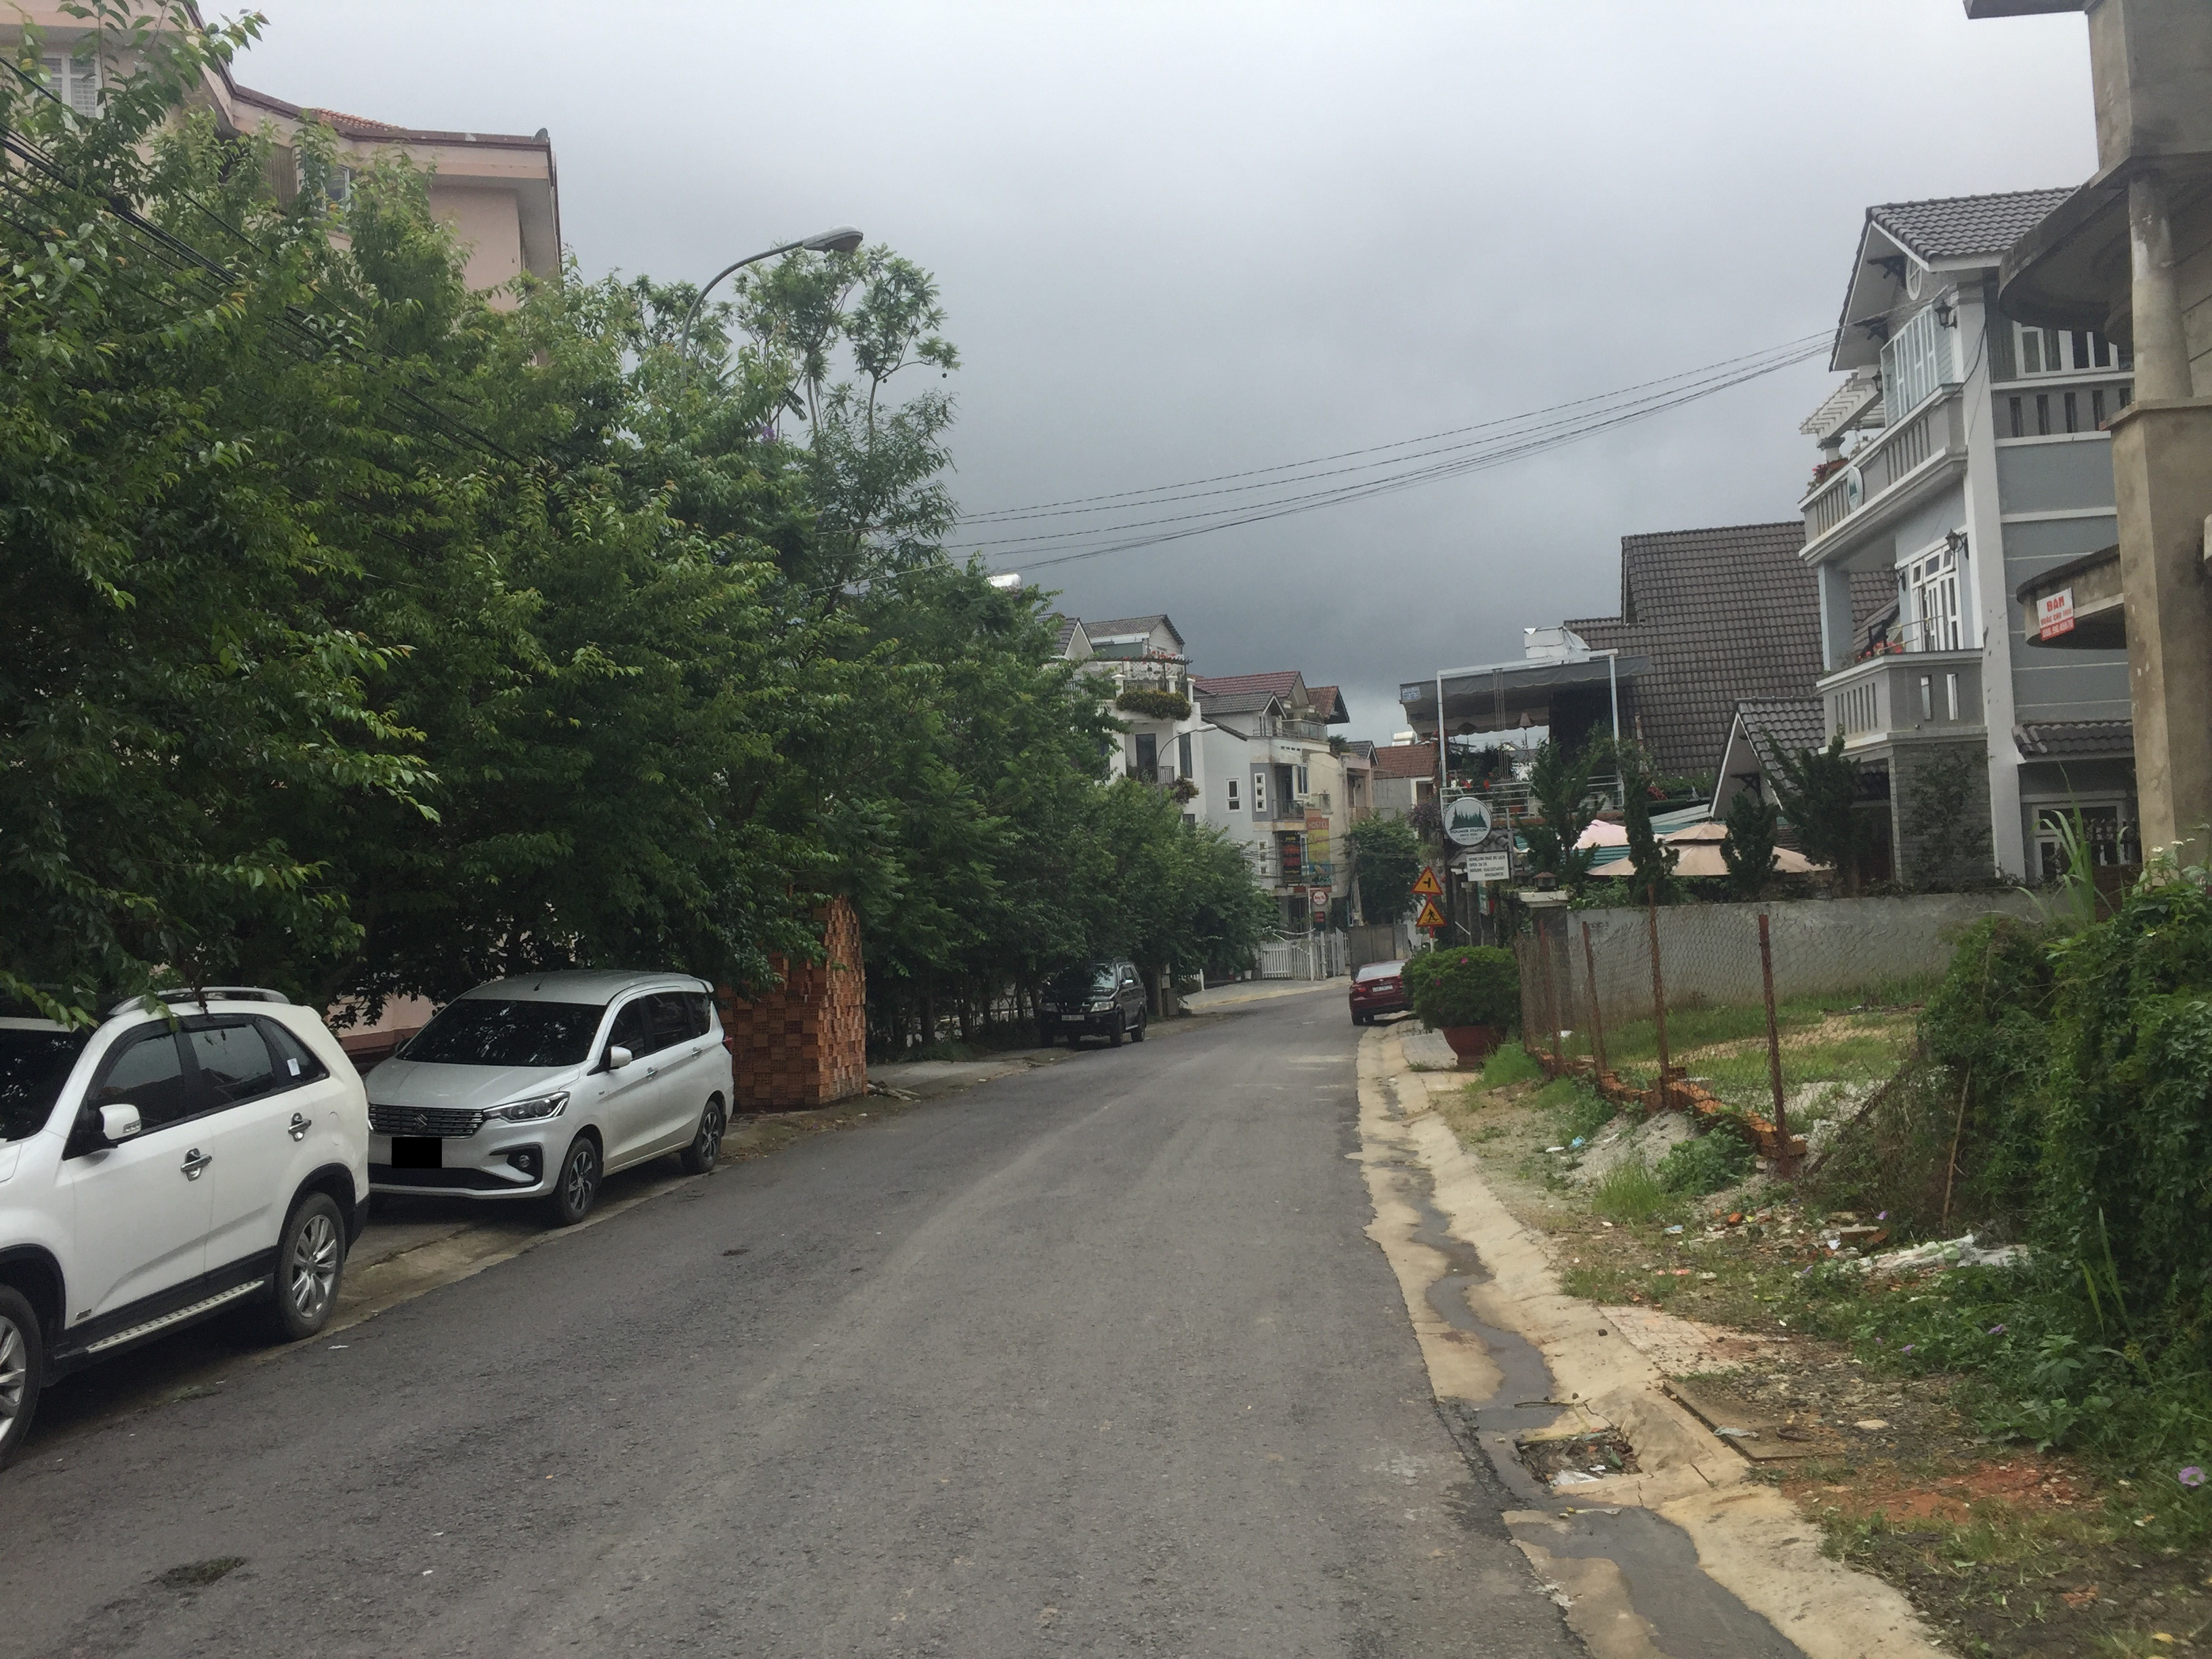hole: (146, 1554, 251, 1589), (721, 1248, 749, 1256), (846, 1267, 864, 1272)
